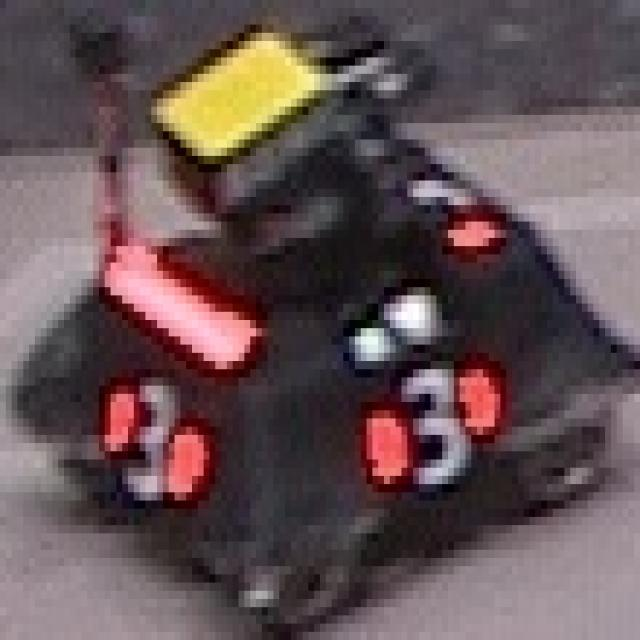R3: (355, 361, 500, 492), (93, 369, 210, 517)
